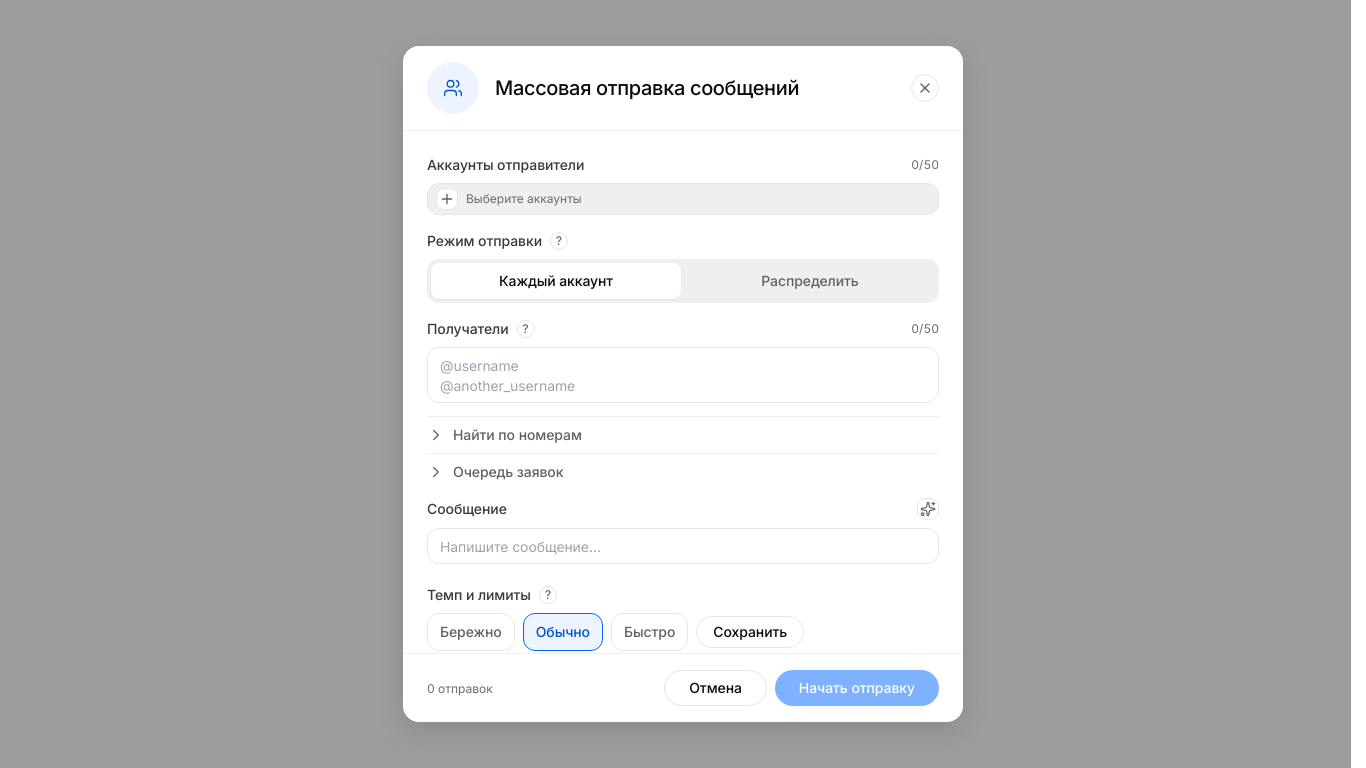
Test: recipients skipped by history are listed apart from failures, with the reason
This screenshot has width=1366, height=768.
Click the button named "Добавить аккаунты": {"x": 447, "y": 199} [436,188,458,210]
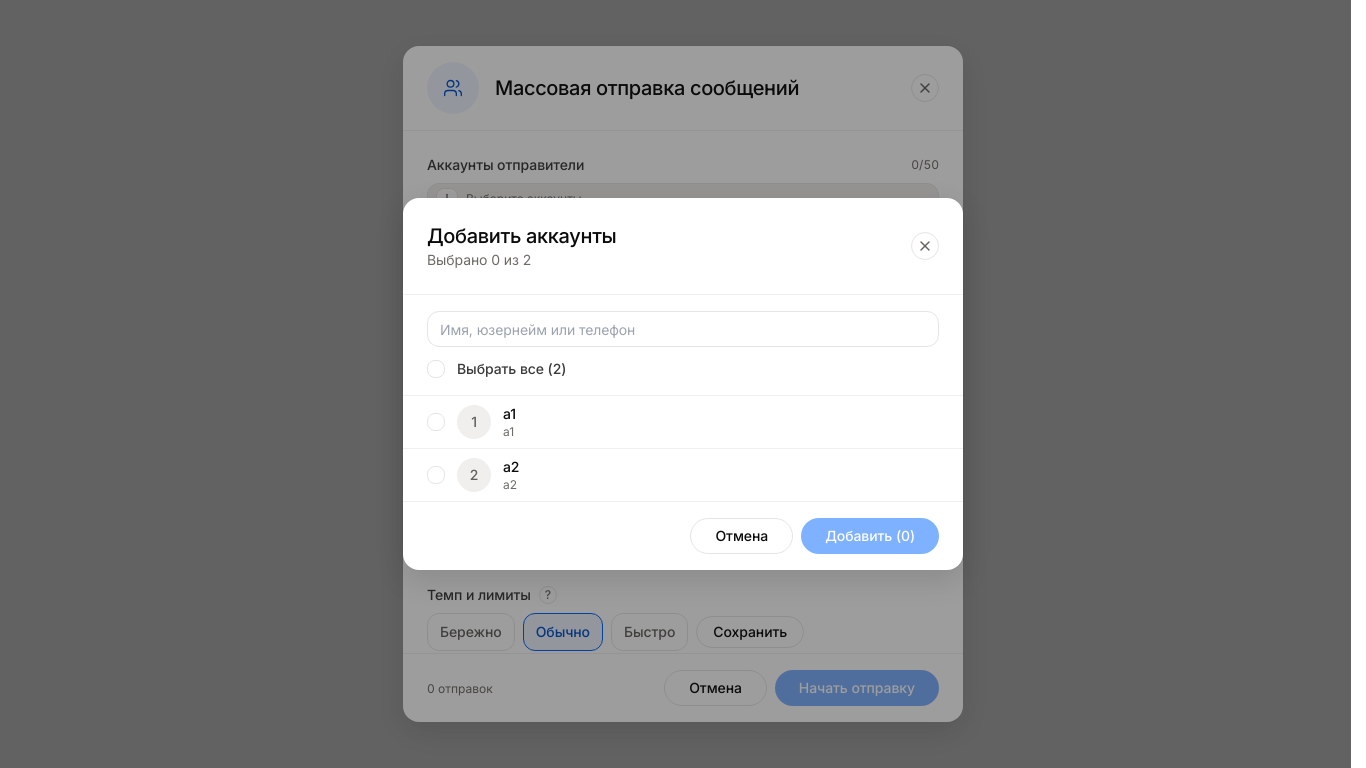
Check: the checkbox labelled "Выбрать все (2)" is enabled
Click the checkbox labelled "Выбрать все (2)": {"x": 497, "y": 369} [427,359,566,379]
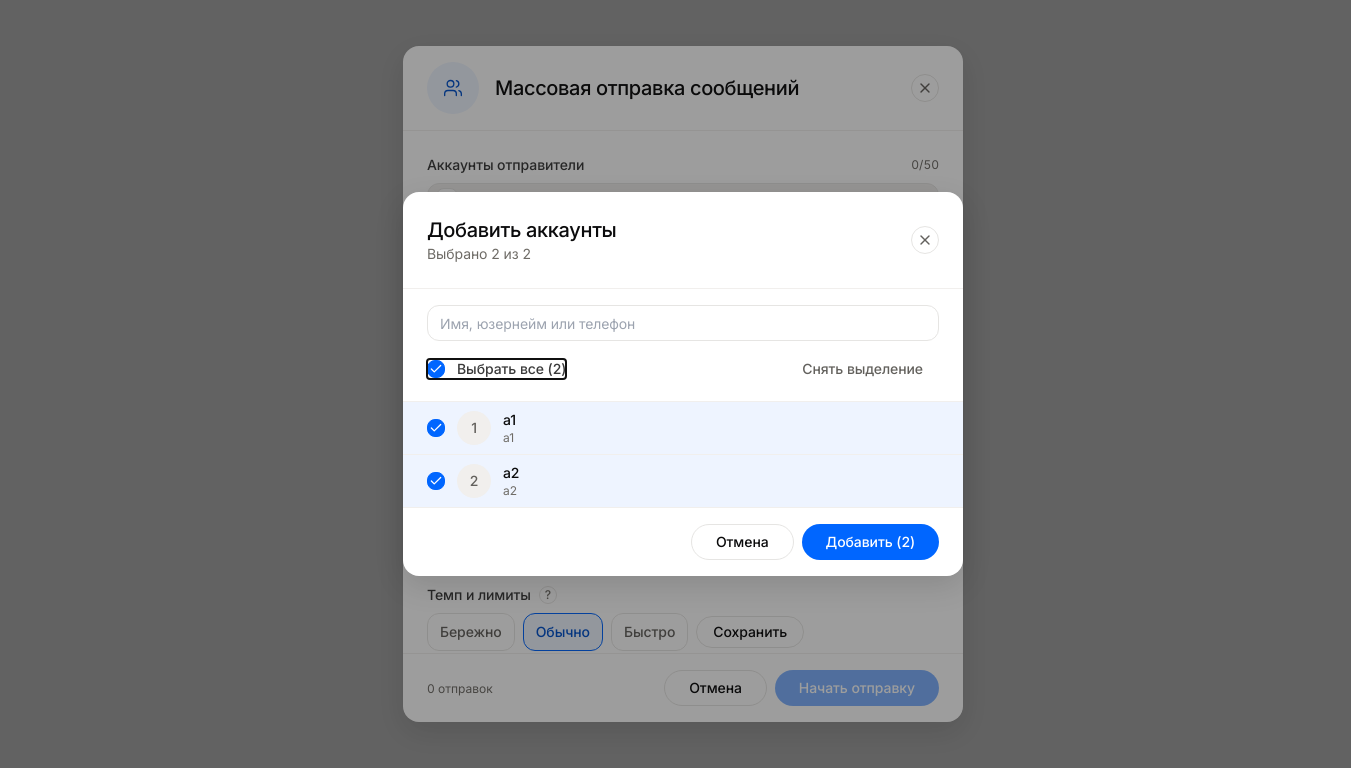
Click the button "Добавить (2)": {"x": 870, "y": 542} [802,524,939,560]
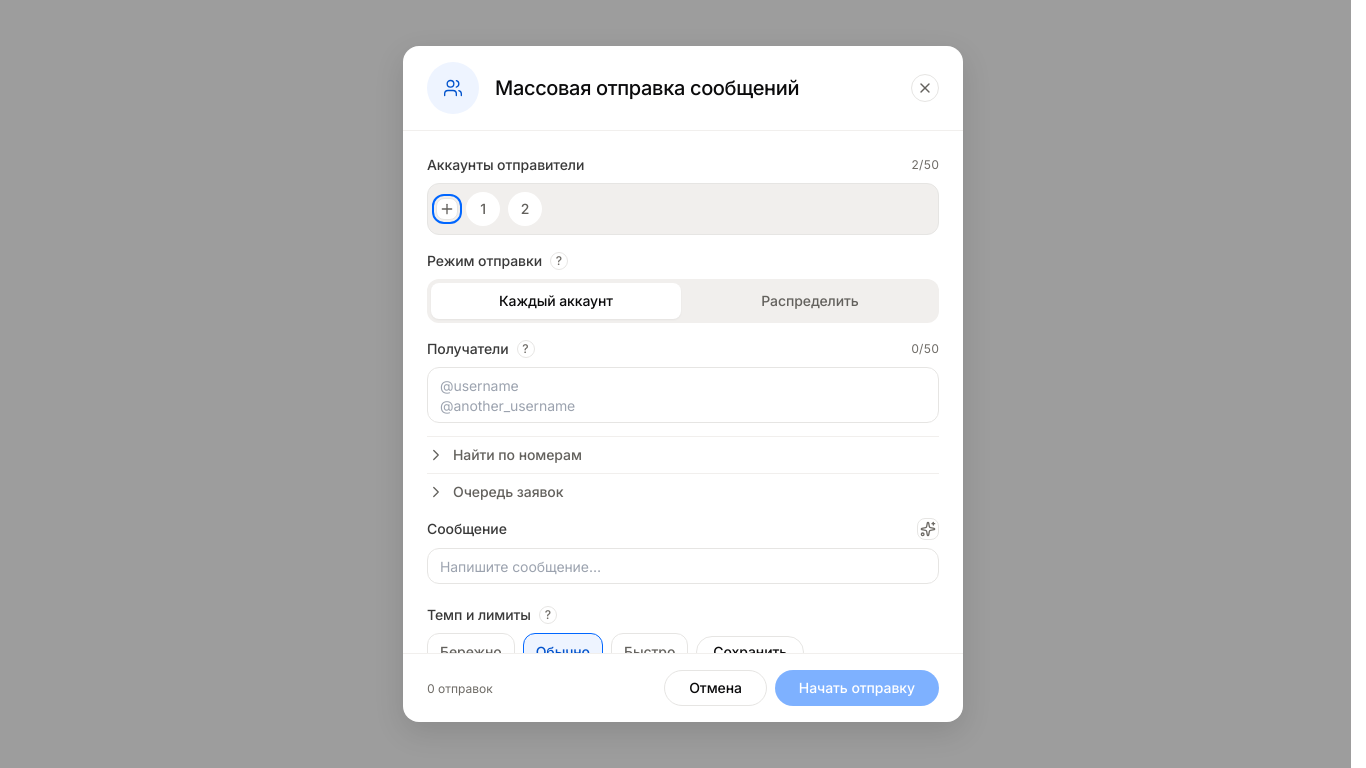
In the text box labelled "Получатели": {"x": 683, "y": 395} [427,367,939,423], type "@client"
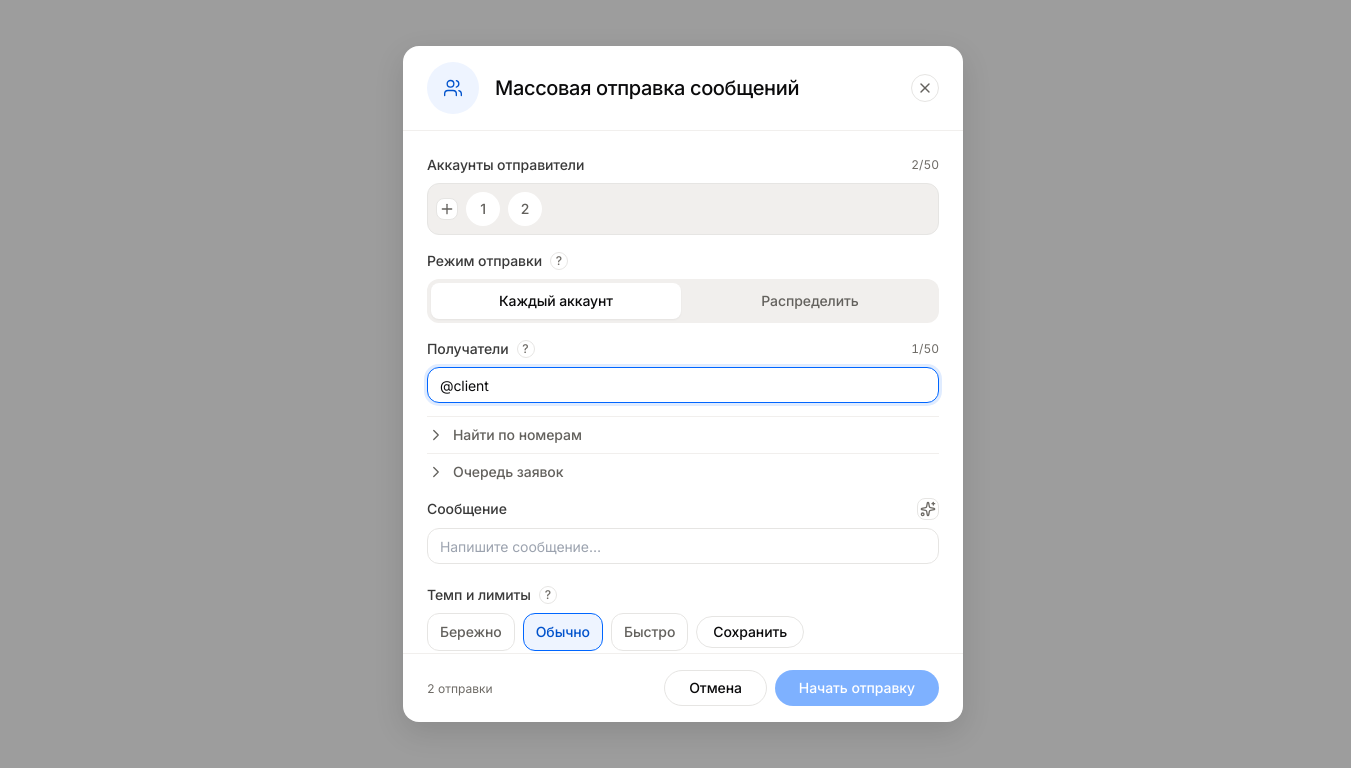
In the text box labelled "Сообщение": {"x": 683, "y": 546} [427,528,939,564], type "Hello"
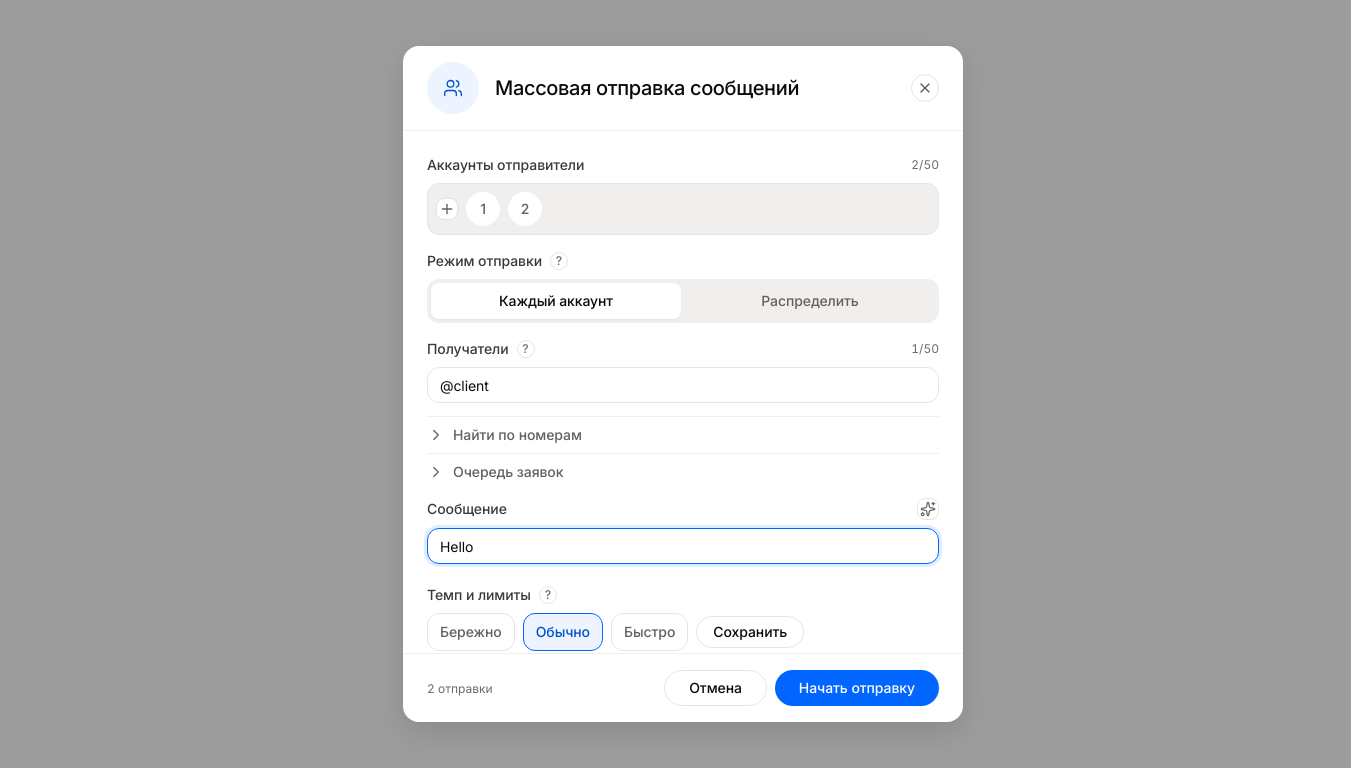
Click the button "Начать отправку": {"x": 857, "y": 688} [775,670,939,706]
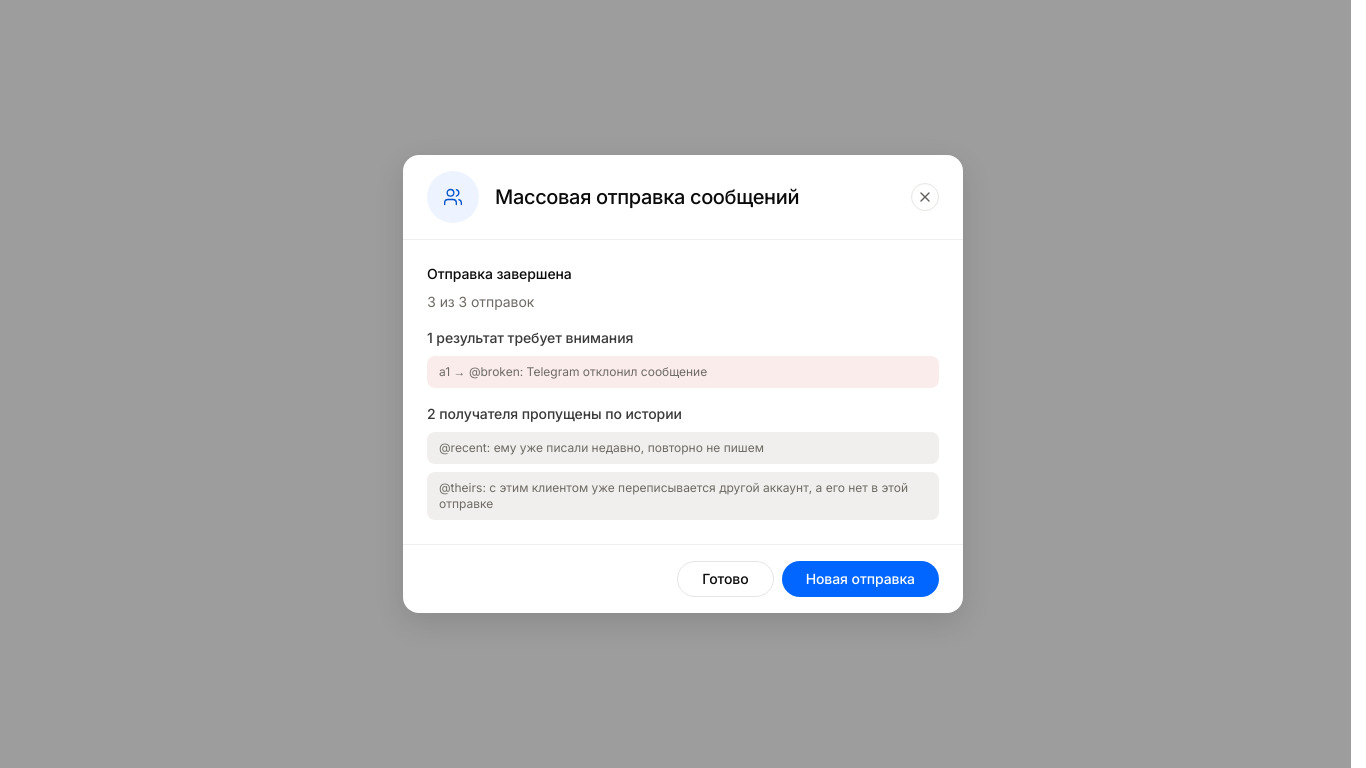
Check: the heading "2 получателя пропущены по истории" is shown, box [427,405,682,422]
Check: the list item "@recent: ему уже писали недавно, повторно не пишем" is shown, box [427,432,939,464]
Check: the list item "@theirs: с этим клиентом уже переписывается другой аккаунт" is shown, box [427,472,939,520]
